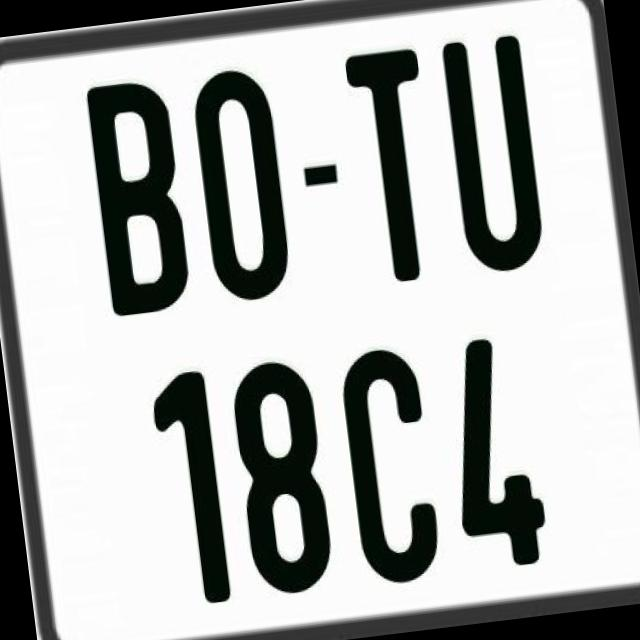0: (188, 65, 295, 310)
1: (148, 365, 232, 603)
4: (440, 332, 550, 572)
8: (228, 354, 342, 600)
B: (86, 78, 198, 320)
C: (338, 346, 448, 588)
T: (342, 44, 446, 288)
U: (437, 29, 550, 280)
